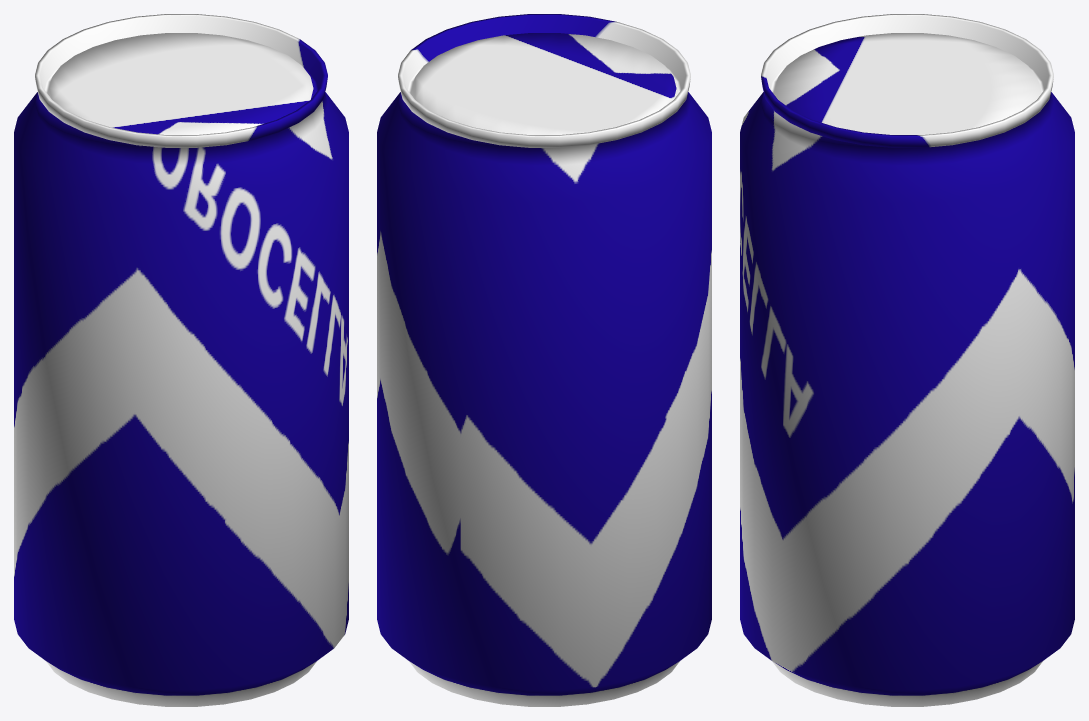
Rendered from blue-can.glb.
3 renders of one model, left to right at view 1: azimuth 30°, elevation 25°; view 2: azimuth 150°, elevation 25°; view 3: azimuth 270°, elevation 25°, orthographic.
Visible parts, largest first — view 1: Cylinder; view 2: Cylinder; view 3: Cylinder.
Boxes of the visible parts, left/top/right/bottom form: Cylinder: left=14, top=14, right=348, bottom=706; Cylinder: left=377, top=14, right=711, bottom=706; Cylinder: left=740, top=14, right=1074, bottom=706.
Bounding box in the file's own units: 4.63 × 8.78 × 4.65.
Materials: 1 (1 with a texture image).
